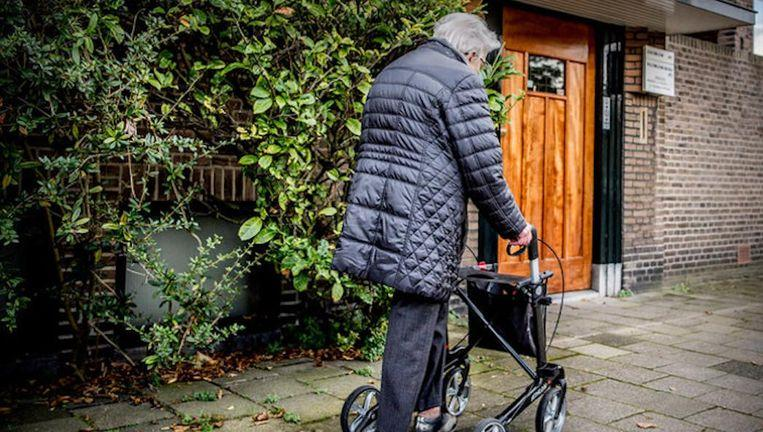walking_frame: (330, 12, 569, 432)
